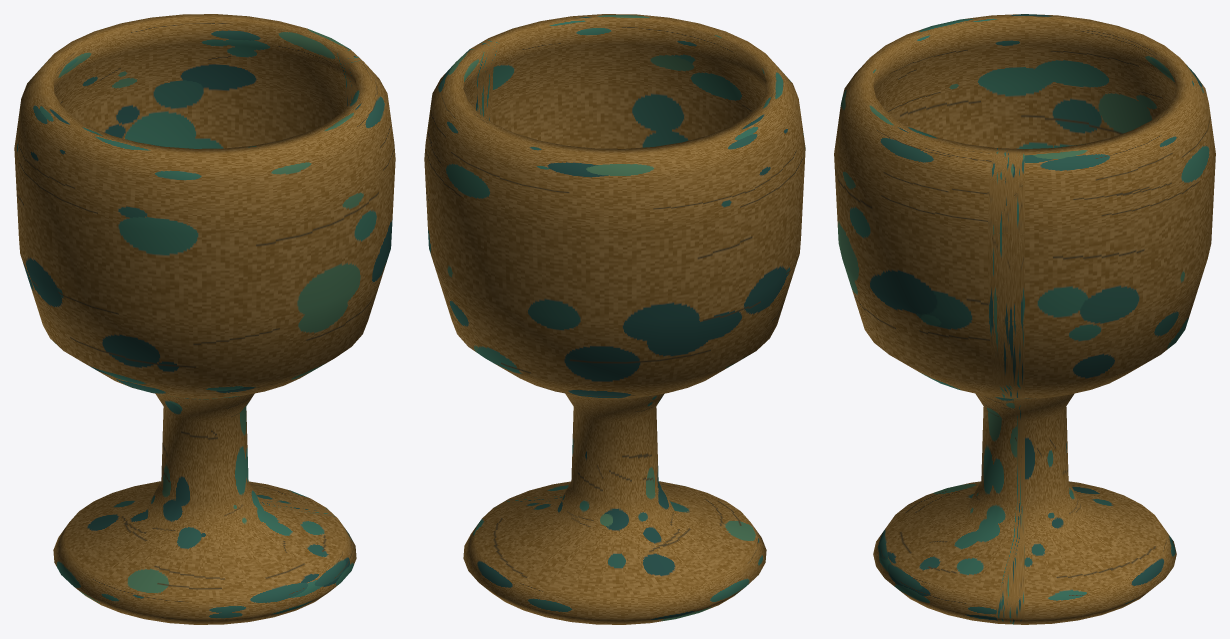
File: goblet_low.glb
3 views of the same model, side by side, from view 1: azimuth 30°, elevation 25°; view 2: azimuth 150°, elevation 25°; view 3: azimuth 270°, elevation 25° (orthographic).
Parts seen in each view (by area): view 1: Goblet_LOW; view 2: Goblet_LOW; view 3: Goblet_LOW.
Part boxes in pixels (x1,y1,x2,y2): Goblet_LOW: (14,14,395,624); Goblet_LOW: (424,14,805,624); Goblet_LOW: (834,14,1215,624).
Size of the model in its own units: 0.166 by 0.231 by 0.166.
1 material, 1 textured.
